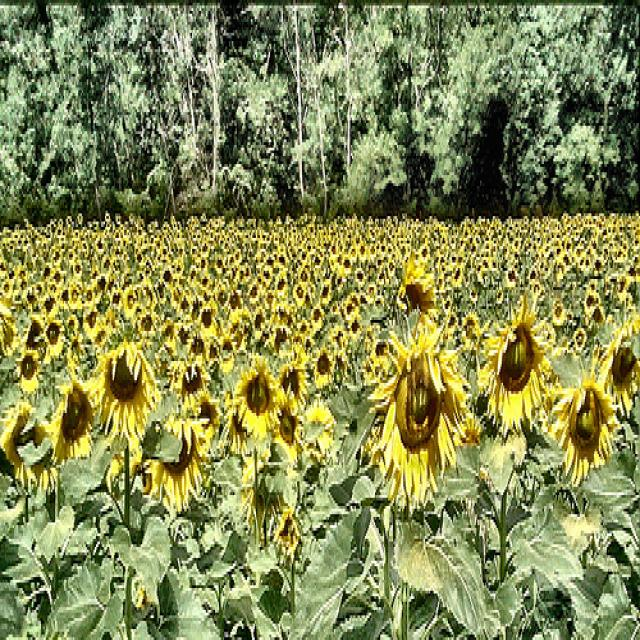sunflower: (384, 332, 468, 521), (490, 316, 543, 446), (554, 372, 607, 482), (148, 412, 208, 498), (0, 413, 52, 506), (100, 346, 152, 438), (233, 366, 279, 448), (51, 393, 96, 457), (401, 258, 437, 328), (176, 359, 210, 412), (192, 395, 220, 453), (16, 348, 44, 402), (278, 506, 304, 562), (311, 348, 336, 392), (549, 296, 569, 331)
